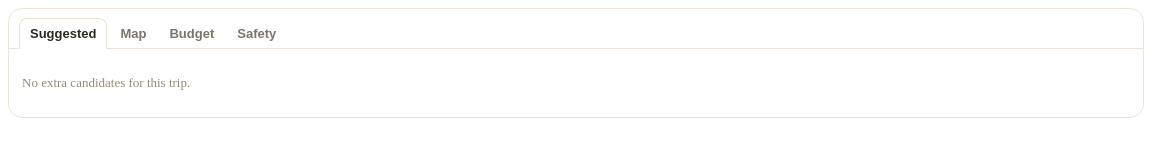
#205: Safety tab renders result.advisories[] (honesty disclosures) › a flood/risk-kind advisory renders sensibly
Click the button "Safety".
click(257, 33)  # box top-left (227, 18), bottom-right (286, 48)
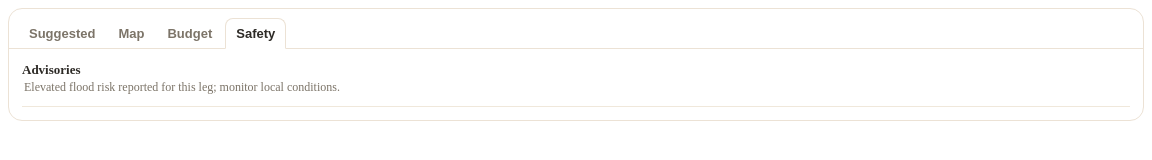
Now the text "Elevated flood risk reported for this leg; monitor local conditions." is shown, box top-left (24, 80), bottom-right (340, 94)
